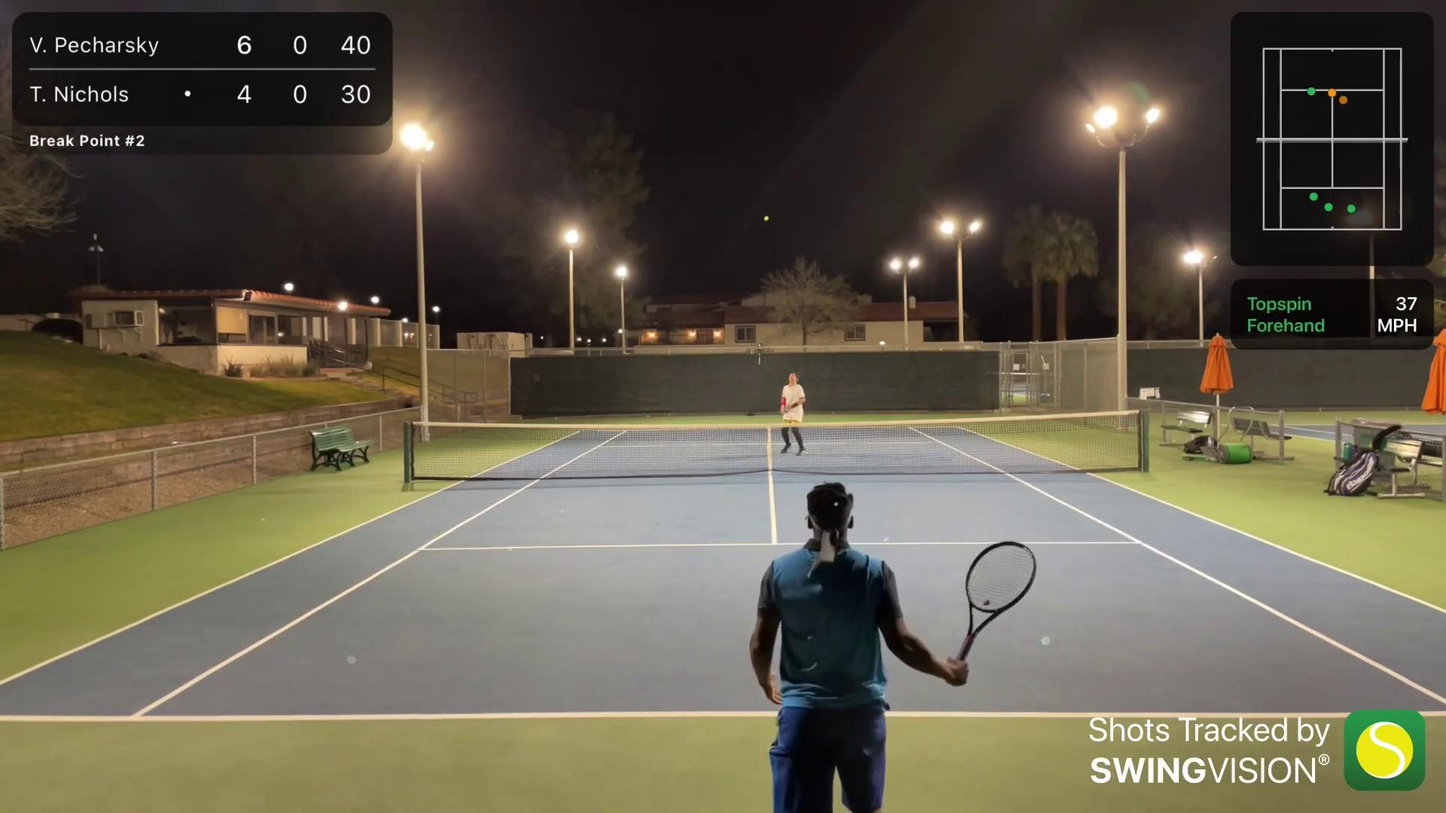ball: (763, 216, 769, 221)
